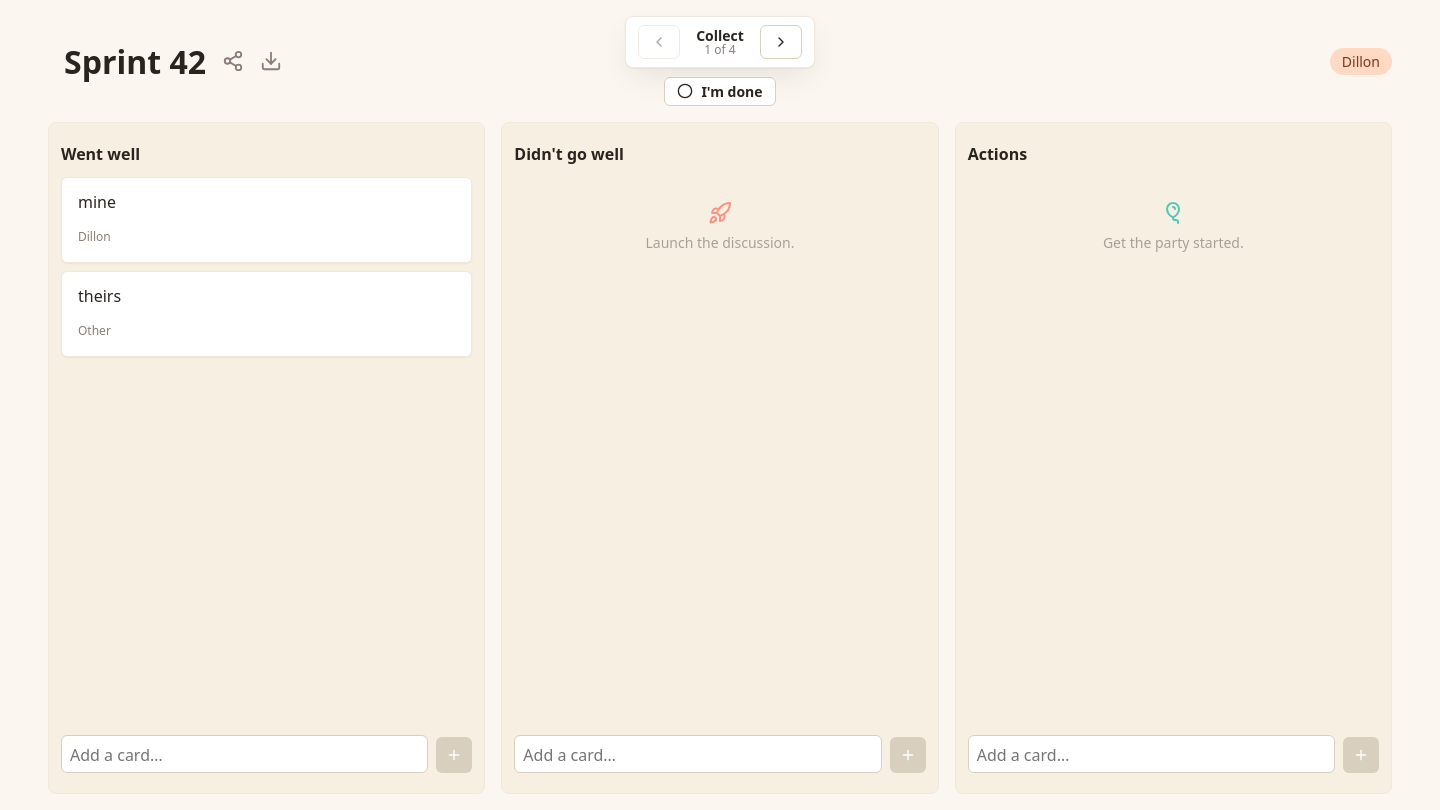
Room page › Vote phase: casting a vote decrements the budget and bumps the per-card count
What coordinates should you click on to do the following:
click the button named "Advance: Vote"
I would click on:
 (781, 42)
Its box is [760,25,802,59].
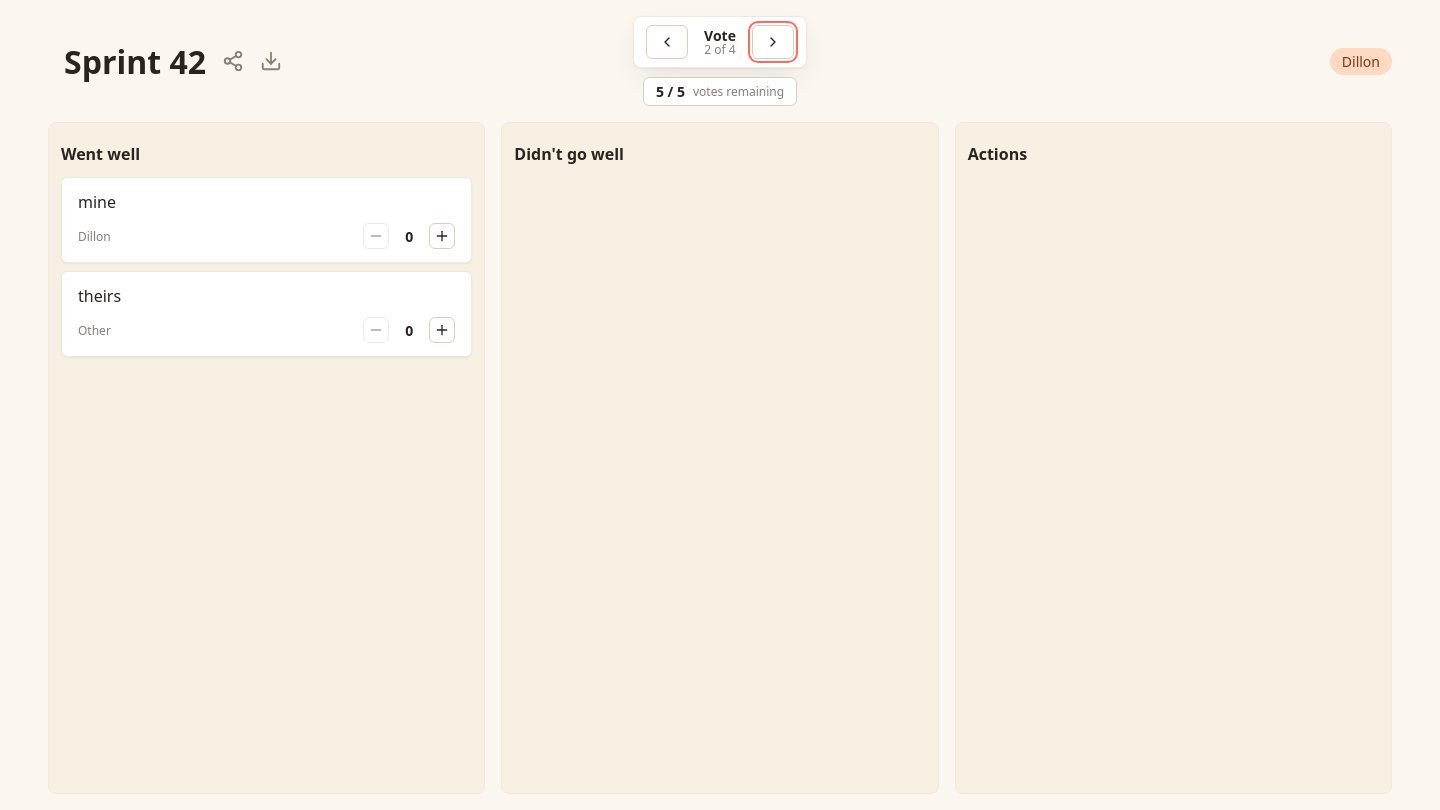
What coordinates should you click on to do the following:
click the 1st button named "cast a vote"
I would click on:
 (442, 236)
Its box is [429,223,455,249].
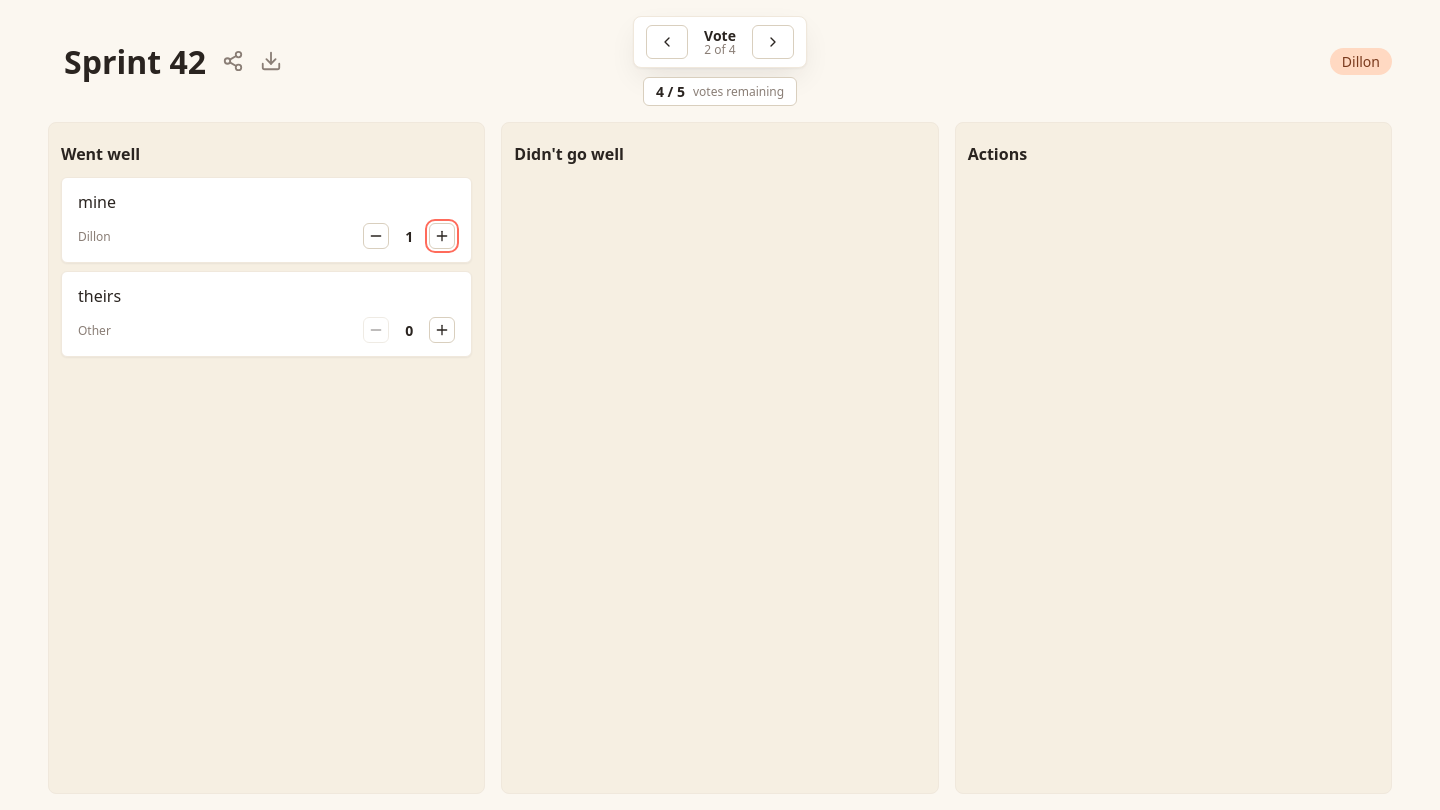
Expected: the element labelled "4 / 5 votes remaining" is shown, [643,76,797,106]
